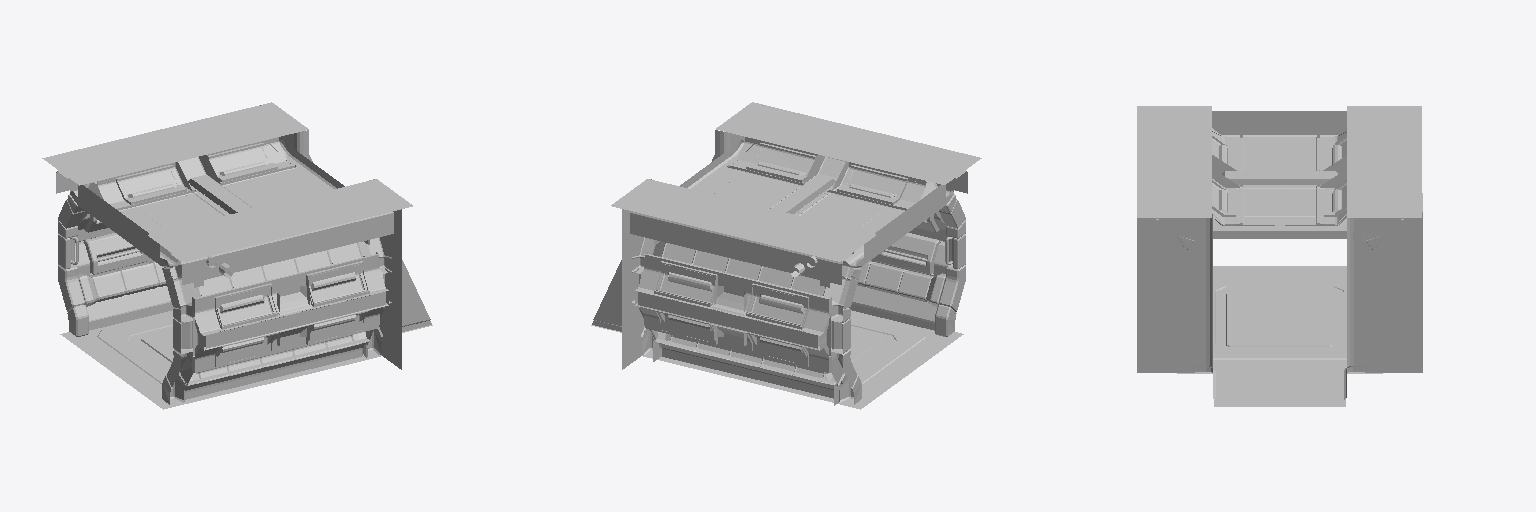
Rendered from back_g.obj.
The picture shows the model from 3 angles: view 1: azimuth 30°, elevation 25°; view 2: azimuth 150°, elevation 25°; view 3: azimuth 270°, elevation 25°; orthographic projection.
Parts seen in each view (by area): view 1: entry_6022_pkOBJ_entry_6022_pkOBJ.001, entry_6016_pkOBJ_entry_6016_pkOBJ.001, entry_6014_pkOBJ_entry_6014_pkOBJ.001, entry_6018_pkOBJ_entry_6018_pkOBJ.001; view 2: entry_6022_pkOBJ_entry_6022_pkOBJ.001, entry_6016_pkOBJ_entry_6016_pkOBJ.001, entry_6014_pkOBJ_entry_6014_pkOBJ.001, entry_6018_pkOBJ_entry_6018_pkOBJ.001; view 3: entry_6022_pkOBJ_entry_6022_pkOBJ.001, entry_6014_pkOBJ_entry_6014_pkOBJ.001.
Part boxes in pixels (bbox=[...]): entry_6022_pkOBJ_entry_6022_pkOBJ.001: bbox=[42, 102, 432, 409]; entry_6016_pkOBJ_entry_6016_pkOBJ.001: bbox=[58, 194, 391, 385]; entry_6014_pkOBJ_entry_6014_pkOBJ.001: bbox=[70, 143, 355, 383]; entry_6018_pkOBJ_entry_6018_pkOBJ.001: bbox=[58, 264, 391, 404]; entry_6022_pkOBJ_entry_6022_pkOBJ.001: bbox=[591, 102, 981, 409]; entry_6016_pkOBJ_entry_6016_pkOBJ.001: bbox=[632, 194, 965, 385]; entry_6014_pkOBJ_entry_6014_pkOBJ.001: bbox=[668, 143, 953, 383]; entry_6018_pkOBJ_entry_6018_pkOBJ.001: bbox=[632, 264, 965, 404]; entry_6022_pkOBJ_entry_6022_pkOBJ.001: bbox=[1137, 106, 1422, 406]; entry_6014_pkOBJ_entry_6014_pkOBJ.001: bbox=[1212, 131, 1346, 359].
Bounding box in the file's own units: 70.29 × 37.5 × 60.26.